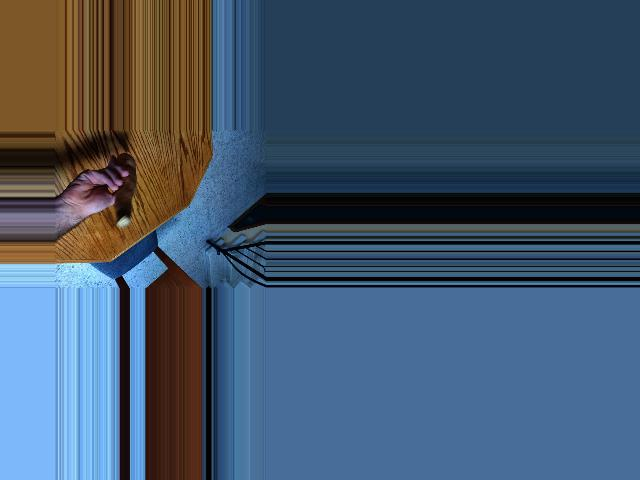sweet_potato: (108, 156, 137, 228)
